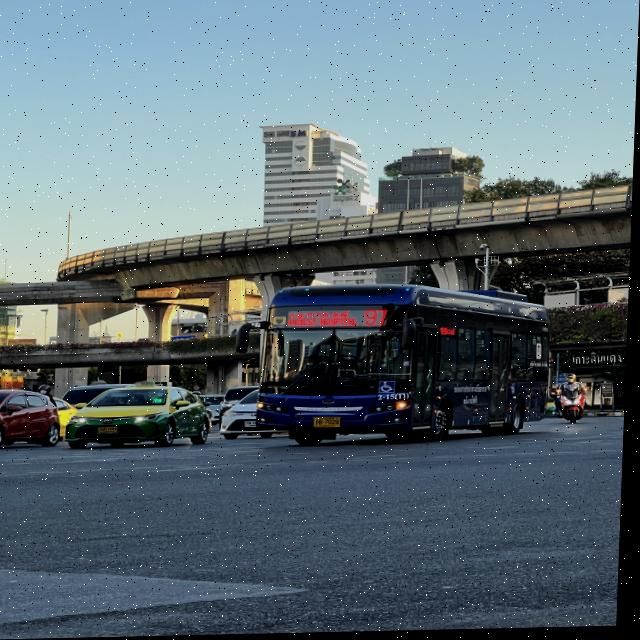Bus-Line-Number: (365, 307, 393, 329)
Destination-Sign-Normal: (285, 309, 365, 331)
TSB-Bus: (257, 283, 555, 448)
